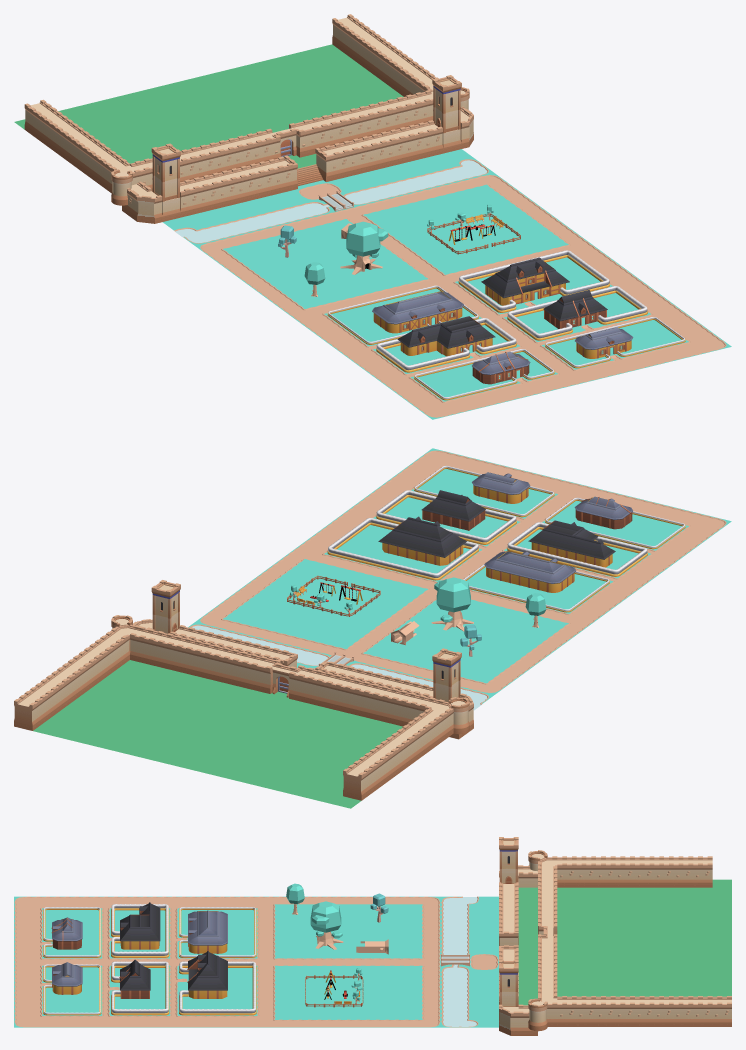
File: village.gltf
The picture shows the model from 3 angles, top to bottom: view 1: azimuth 30°, elevation 25°; view 2: azimuth 150°, elevation 25°; view 3: azimuth 270°, elevation 25°; orthographic projection. The views are drawn at different scales.
Parts seen in each view (by area): view 1: tree_oak, wall-corner-slant, wall-corner-half-tower, wall34, wall40, wall37, wall38, wall43, wall33, wall35, wall42, wall39 (+4 smaller); view 2: tree_oak, wall-corner-half-tower, wall67, wall76, wall45, wall49, wall52, wall46, wall56, wall55, wall48, wall50 (+6 smaller); view 3: tree_oak, wall-corner-half-tower2, wall66, wall74, wall64, wall61, wall62, wall63, wall67, wall60, wall65, wall68 (+15 smaller).
Part boxes in pixels (<box>): tree_oak: <box>340,221,388,274</box>; wall-corner-slant: <box>133,191,162,223</box>; wall-corner-half-tower: <box>111,165,140,205</box>; wall34: <box>320,143,349,180</box>; wall40: <box>246,161,274,198</box>; wall37: <box>377,129,405,167</box>; wall38: <box>396,124,424,162</box>; wall43: <box>190,175,218,212</box>; wall33: <box>265,156,293,194</box>; wall35: <box>340,138,368,176</box>; wall42: <box>209,170,237,208</box>; wall39: <box>415,120,442,157</box>; tree_oak: <box>431,577,473,631</box>; wall-corner-half-tower: <box>431,697,469,737</box>; wall67: <box>343,763,372,800</box>; wall76: <box>14,694,43,730</box>; wall45: <box>242,654,271,691</box>; wall49: <box>167,635,195,673</box>; wall52: <box>298,667,326,705</box>; wall46: <box>223,649,251,686</box>; wall56: <box>373,685,401,723</box>; wall55: <box>354,681,382,718</box>; wall48: <box>186,640,214,677</box>; wall50: <box>148,631,176,668</box>; tree_oak: <box>310,901,343,949</box>; wall-corner-half-tower2: <box>528,996,557,1031</box>; wall66: <box>673,856,693,887</box>; wall74: <box>673,996,693,1026</box>; wall64: <box>635,856,654,887</box>; wall61: <box>576,856,595,887</box>; wall62: <box>596,856,615,887</box>; wall63: <box>615,856,634,887</box>; wall67: <box>693,856,712,887</box>; wall60: <box>557,856,576,887</box>; wall65: <box>654,856,673,887</box>; wall68: <box>557,996,576,1026</box>.
Bounding box in the file's own units: 38 × 7.24 × 74.
123 materials, 58 textured.
